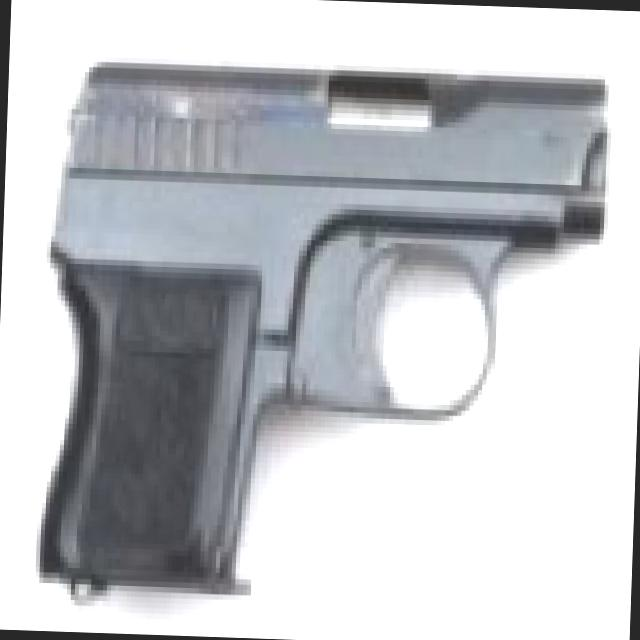handgun: (39, 38, 602, 607)
